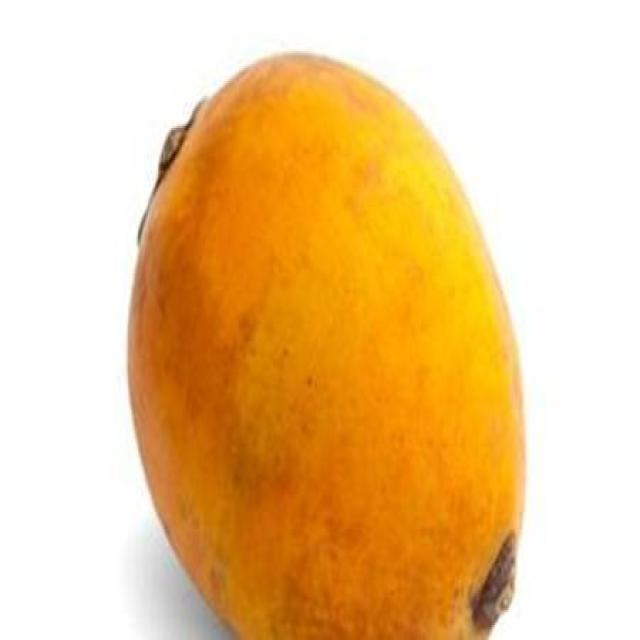good: (124, 53, 528, 638)
